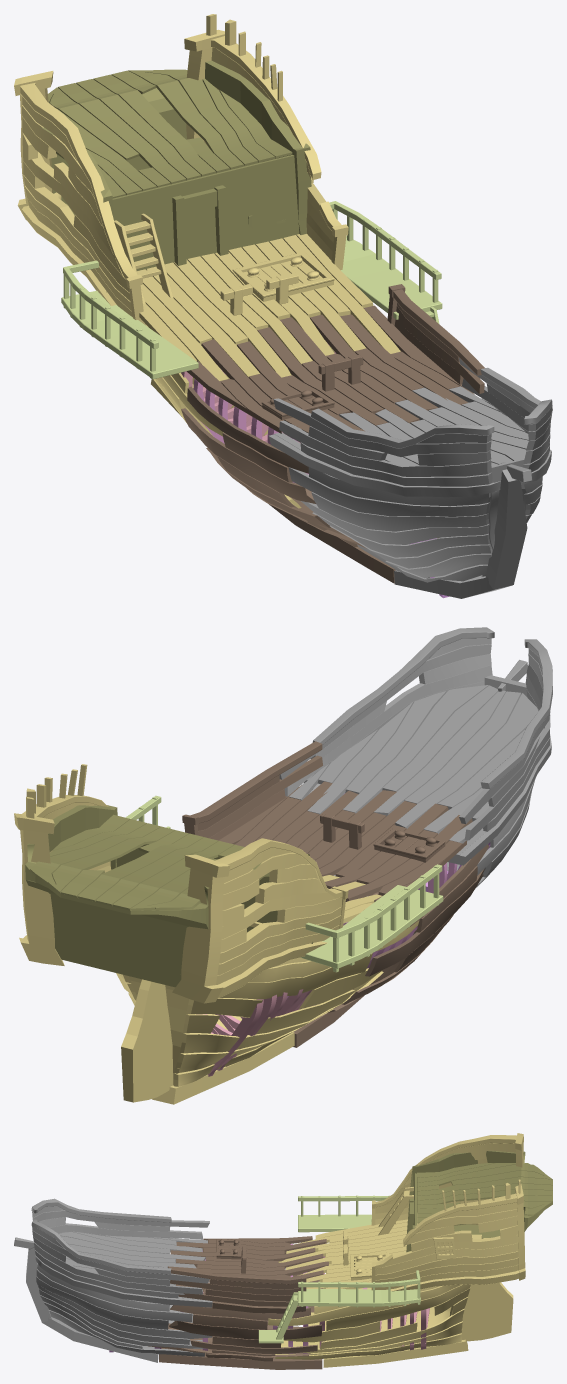
The model's file is shipwreck2.fbx.
3 views of the same model, one above another, from view 1: azimuth 30°, elevation 25°; view 2: azimuth 150°, elevation 25°; view 3: azimuth 270°, elevation 25° (orthographic). The views are drawn at different scales.
Parts seen in each view (by area): view 1: shipwreck:polySurface223, shipwreck1:polySurface167, shipwreck:pCube4, shipwreck:pCube50, shipwreck:pCube51, shipwreck:group4_polySurface95; view 2: shipwreck:polySurface223, shipwreck1:polySurface167, shipwreck:pCube4, shipwreck:pCube50, shipwreck:pCube51, shipwreck:pCube19, shipwreck:group4_polySurface95; view 3: shipwreck:polySurface223, shipwreck1:polySurface167, shipwreck:pCube50, shipwreck:pCube4, shipwreck:pCube51, shipwreck:pCube19.
Boxes of the visible parts, x1,y1,x2,y2 form: shipwreck:polySurface223: (14,14,400,508); shipwreck1:polySurface167: (268,358,552,598); shipwreck:pCube4: (42,60,311,292); shipwreck:pCube50: (181,284,484,583); shipwreck:pCube51: (61,201,442,379); shipwreck:group4_polySurface95: (193,379,308,483); shipwreck:polySurface223: (14,764,419,1104); shipwreck1:polySurface167: (279,627,552,934); shipwreck:pCube4: (25,805,312,987); shipwreck:pCube50: (182,741,489,1047); shipwreck:pCube51: (126,795,443,972); shipwreck:pCube19: (196,952,373,1076); shipwreck:group4_polySurface95: (286,862,457,1005); shipwreck:polySurface223: (268,1133,525,1367); shipwreck1:polySurface167: (14,1198,212,1362); shipwreck:pCube50: (148,1236,328,1369); shipwreck:pCube4: (406,1150,552,1252); shipwreck:pCube51: (258,1195,420,1343); shipwreck:pCube19: (319,1256,429,1350).
Bounding box in the file's own units: 11.82 × 13.18 × 30.35.
